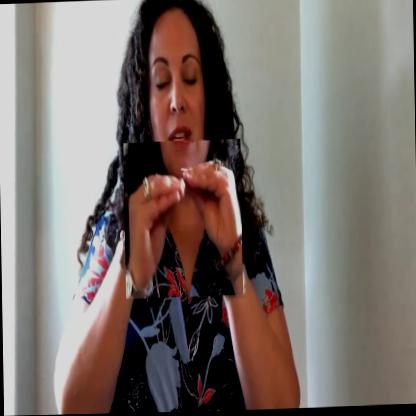Fix: (123, 139, 242, 299)
